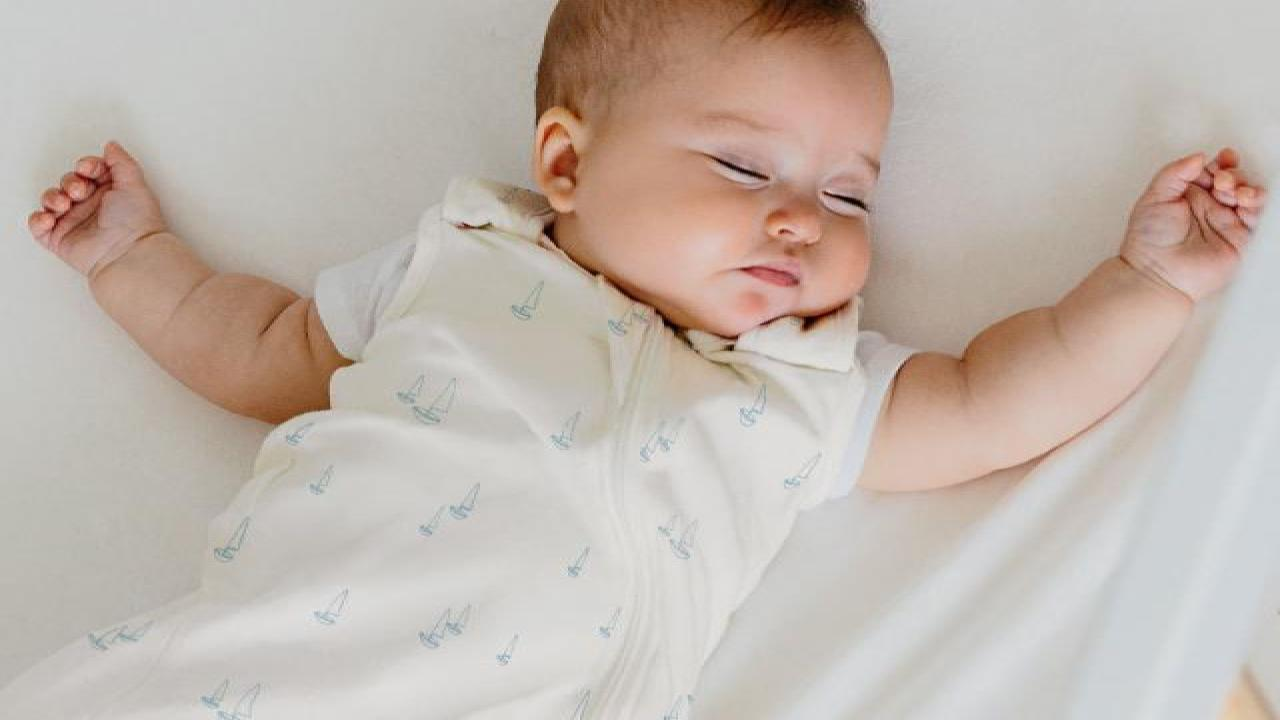hand: (1122, 148, 1266, 299), (29, 141, 166, 270)
